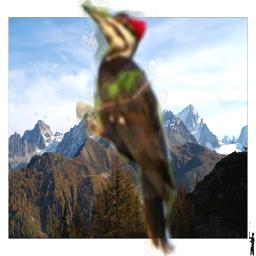Woodpecker: (76, 0, 177, 256)
